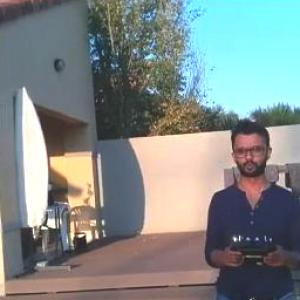follow: (198, 112, 299, 299)
